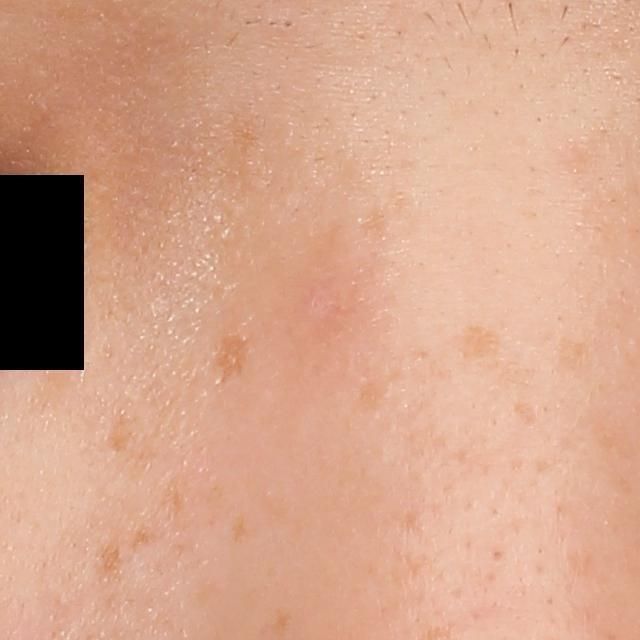melasma: (211, 327, 251, 390), (450, 327, 499, 362), (162, 474, 190, 522), (126, 518, 155, 556), (98, 537, 126, 575), (103, 419, 133, 453), (232, 510, 252, 541)
